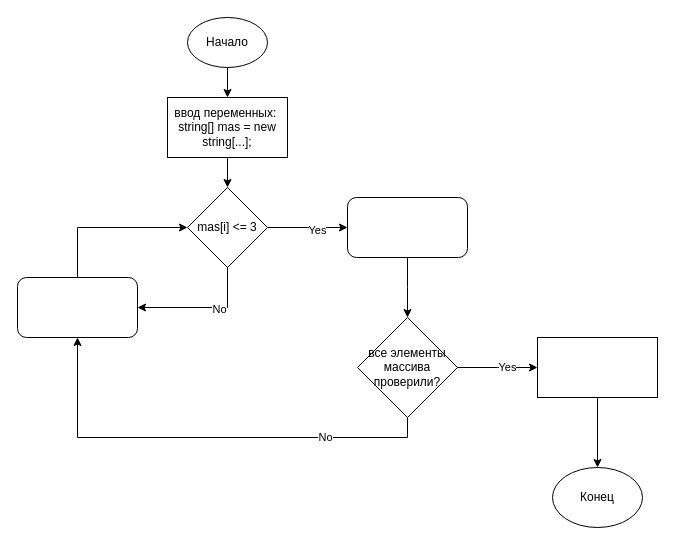
This 675x545 diagram has some shape labels left out. The box of each missing label's shape, as (x1, y1, x2, y2) in pixels:
включаем это слово в конечный массив: (346, 196, 468, 258)
Вывод конечного массива: (536, 336, 658, 398)
переходим на след. элемент: (16, 276, 138, 338)
